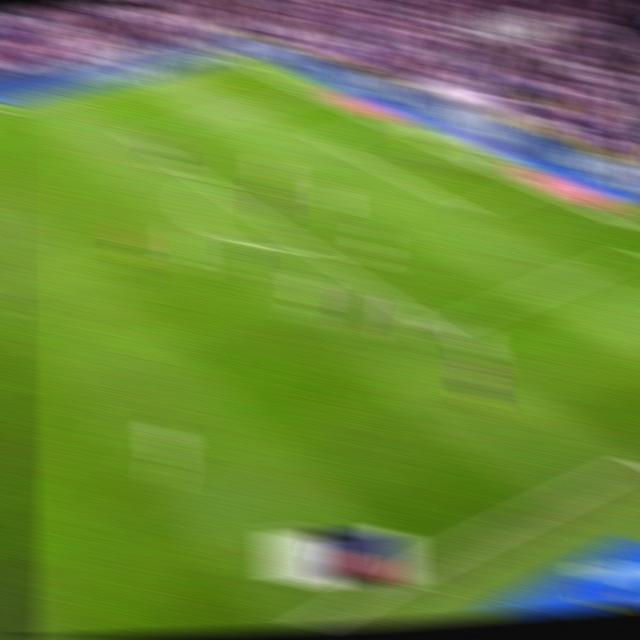bigarea_bottom_inner: (422, 315, 452, 343)
bigarea_top_inner: (126, 129, 149, 145)
bottom_arc_area_intersection: (296, 236, 323, 258)
smallarea_bottom_inner: (456, 200, 482, 220)
smallarea_top_inner: (313, 132, 336, 148)
top_arc_area_intersection: (196, 174, 219, 189)
